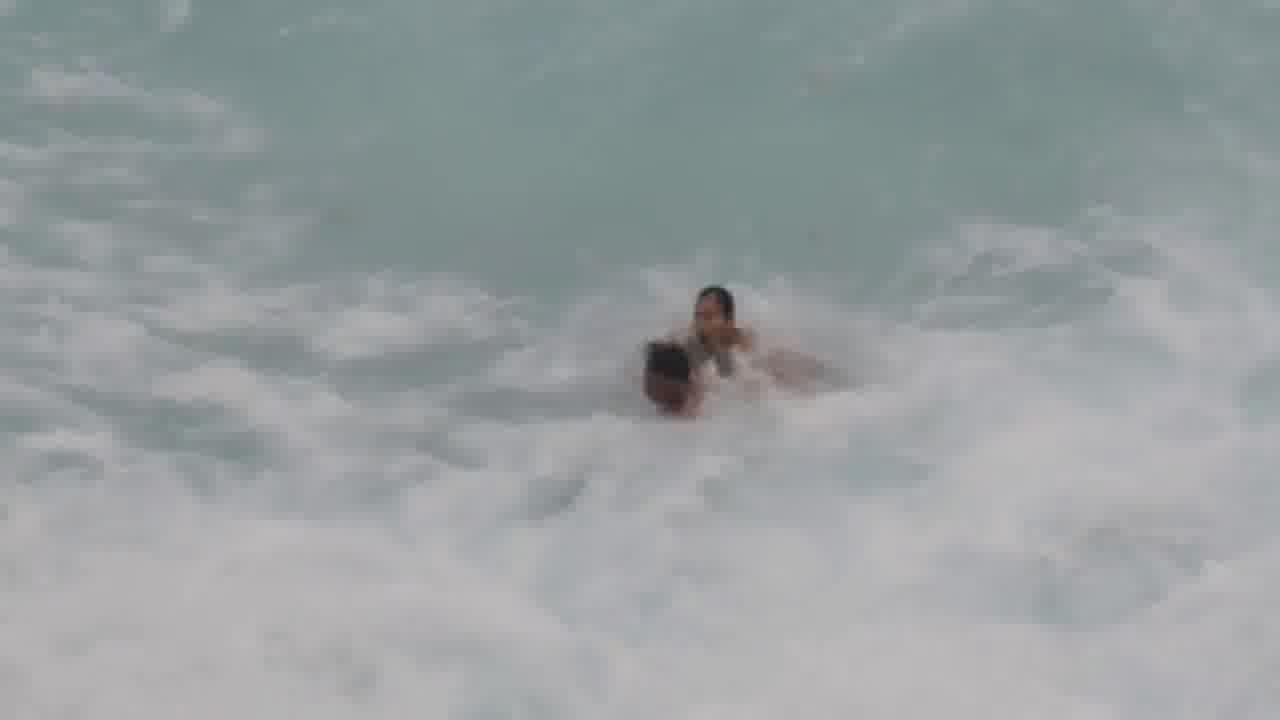human: (662, 275, 805, 378), (618, 325, 717, 422)
